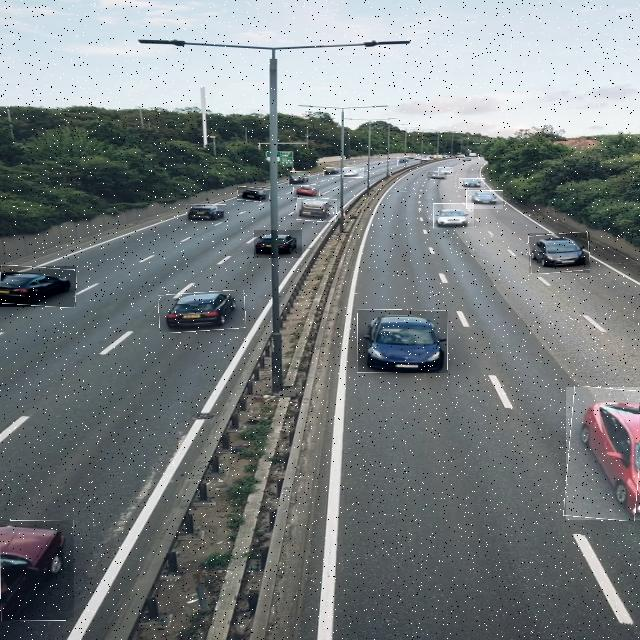Car: (566, 387, 640, 520), (0, 520, 74, 621), (358, 310, 448, 373), (159, 291, 246, 332), (0, 266, 76, 307), (529, 233, 590, 273), (254, 230, 302, 258), (433, 203, 474, 228), (297, 197, 337, 222), (466, 190, 503, 209), (186, 204, 226, 221), (237, 187, 270, 202), (294, 183, 320, 200), (288, 172, 310, 186), (459, 178, 485, 189), (342, 168, 364, 178), (323, 167, 342, 176), (427, 172, 447, 180), (438, 167, 453, 176), (397, 157, 410, 166)
